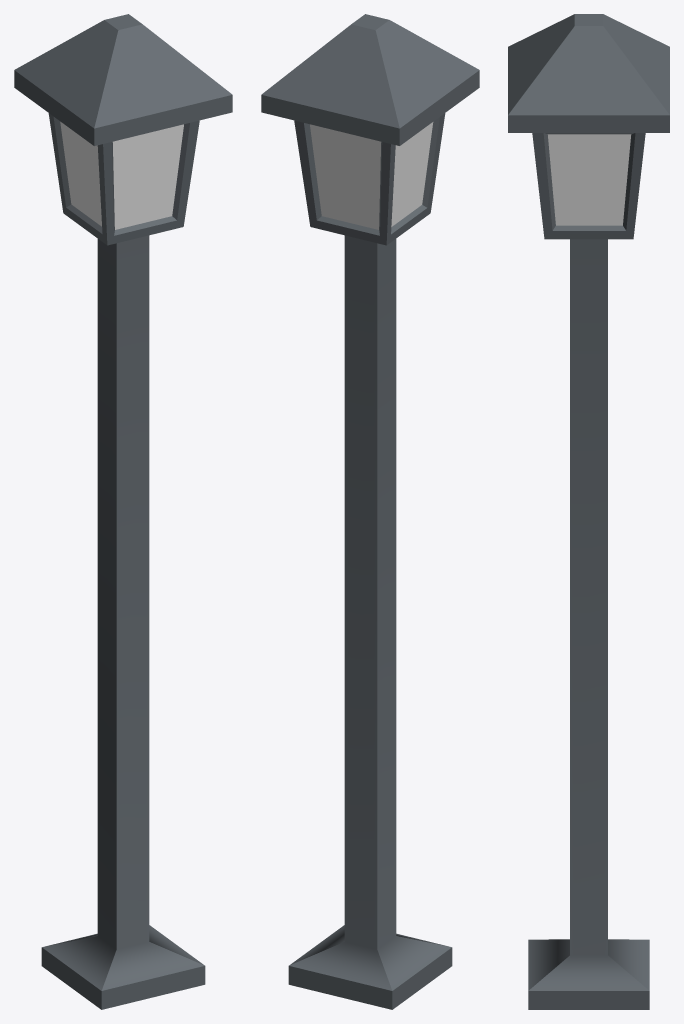
The model's file is Lampara01.obj.
3 renders of one model, left to right at view 1: azimuth 30°, elevation 25°; view 2: azimuth 150°, elevation 25°; view 3: azimuth 270°, elevation 25°, orthographic.
Parts seen in each view (by area): view 1: Lampara01, Faro; view 2: Lampara01, Faro; view 3: Lampara01, Faro.
Boxes of the visible parts, x1=… form: Lampara01: x1=14, y1=14, x2=232, y2=1009; Faro: x1=60, y1=121, x2=183, y2=229; Lampara01: x1=261, y1=14, x2=479, y2=1009; Faro: x1=310, y1=122, x2=433, y2=229; Lampara01: x1=508, y1=14, x2=669, y2=1009; Faro: x1=547, y1=134, x2=631, y2=225.
Size of the model in its own units: 1.63 by 10.69 by 1.63.
